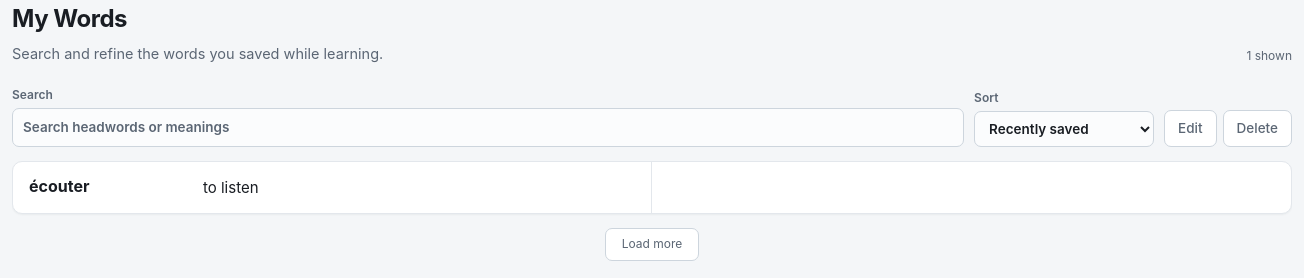
it: VocabularyPage › invalidates a paginating cursor in the first sort commit and ignores its response
Check: the heading "écouter" is shown, box [29, 176, 90, 196]
Click the button "Load more" at (652,245), box [605, 228, 699, 261]
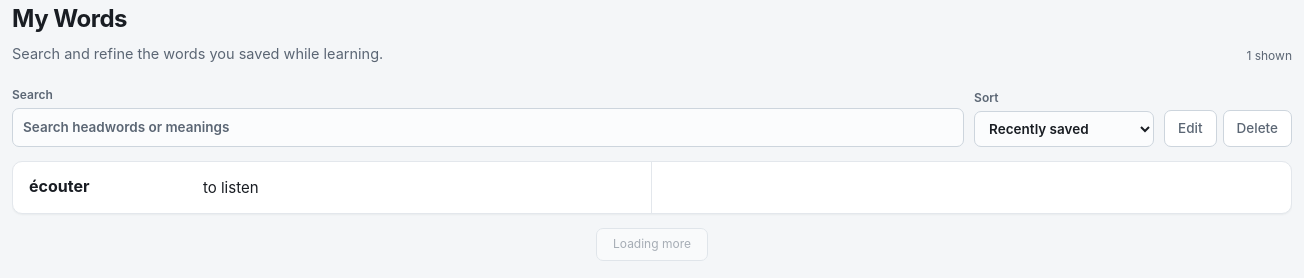
Select "Alphabetical" in the dropdown named "Sort saved words" at (1064,129), box [974, 111, 1154, 147]
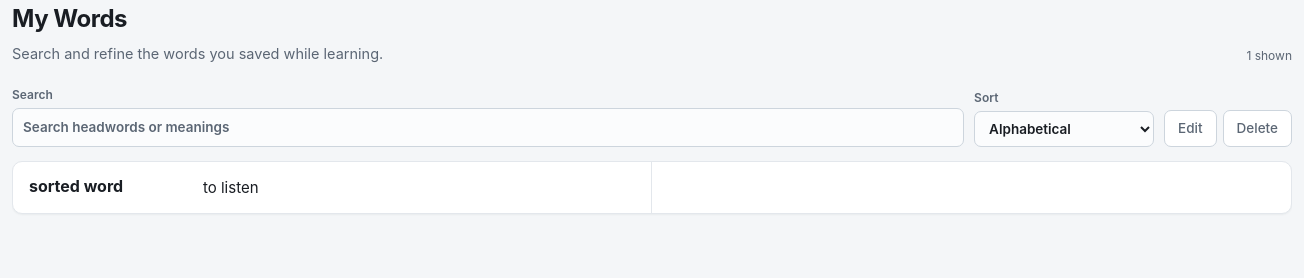
Check: the heading "sorted word" is shown, box [29, 176, 123, 196]
